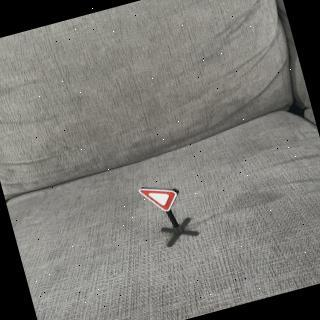sign_yield: (136, 177, 185, 221)
